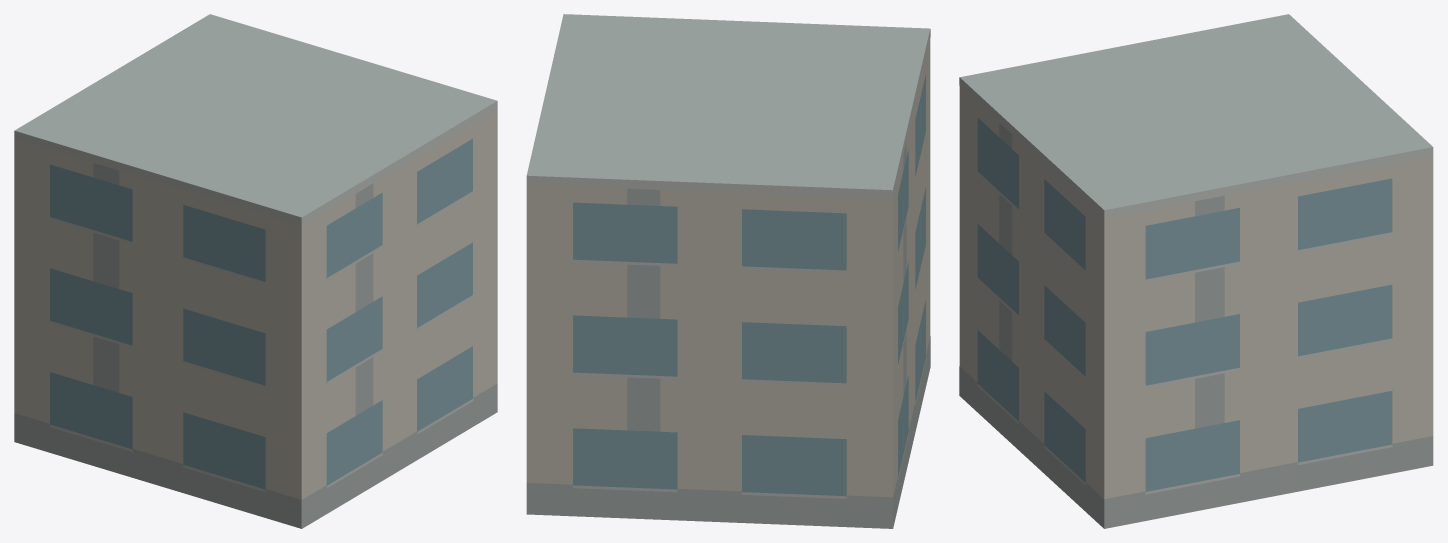
File: survey-upis-32687968.glb
3 views of the same model, side by side, from view 1: azimuth 30°, elevation 25°; view 2: azimuth 150°, elevation 25°; view 3: azimuth 270°, elevation 25° (orthographic). The views are drawn at different scales.
Visible parts, largest first — view 1: survey-upis-32687968.tmp; view 2: survey-upis-32687968.tmp; view 3: survey-upis-32687968.tmp.
Boxes of the visible parts, left/top/right/bottom form: survey-upis-32687968.tmp: left=14, top=14, right=497, bottom=528; survey-upis-32687968.tmp: left=526, top=14, right=930, bottom=528; survey-upis-32687968.tmp: left=959, top=14, right=1433, bottom=528.
Bounding box in the file's own units: 12.1 × 9.15 × 12.34.
